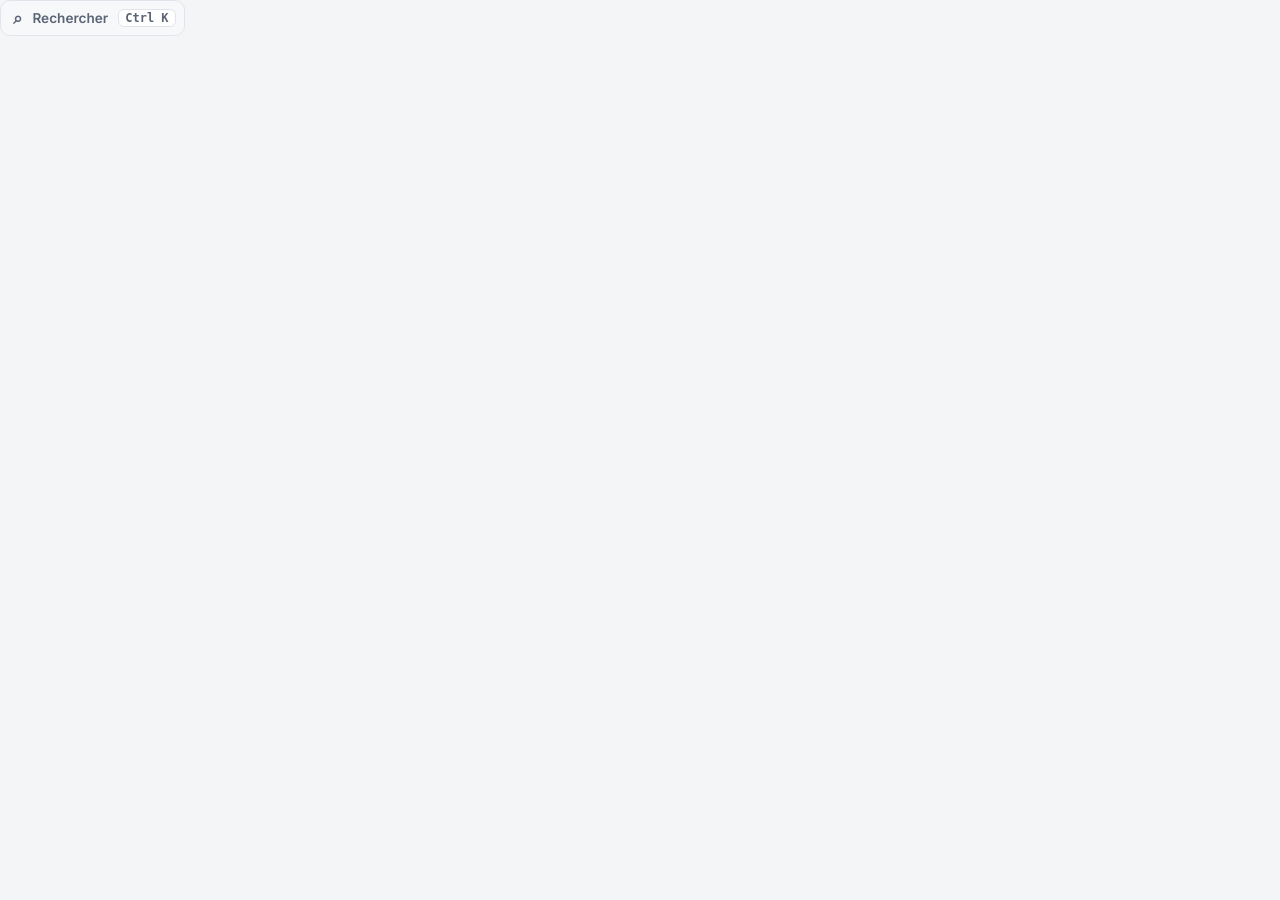
it: CommandPalette › says so when nothing matches
Type keys "{Control>}k{/Control}"
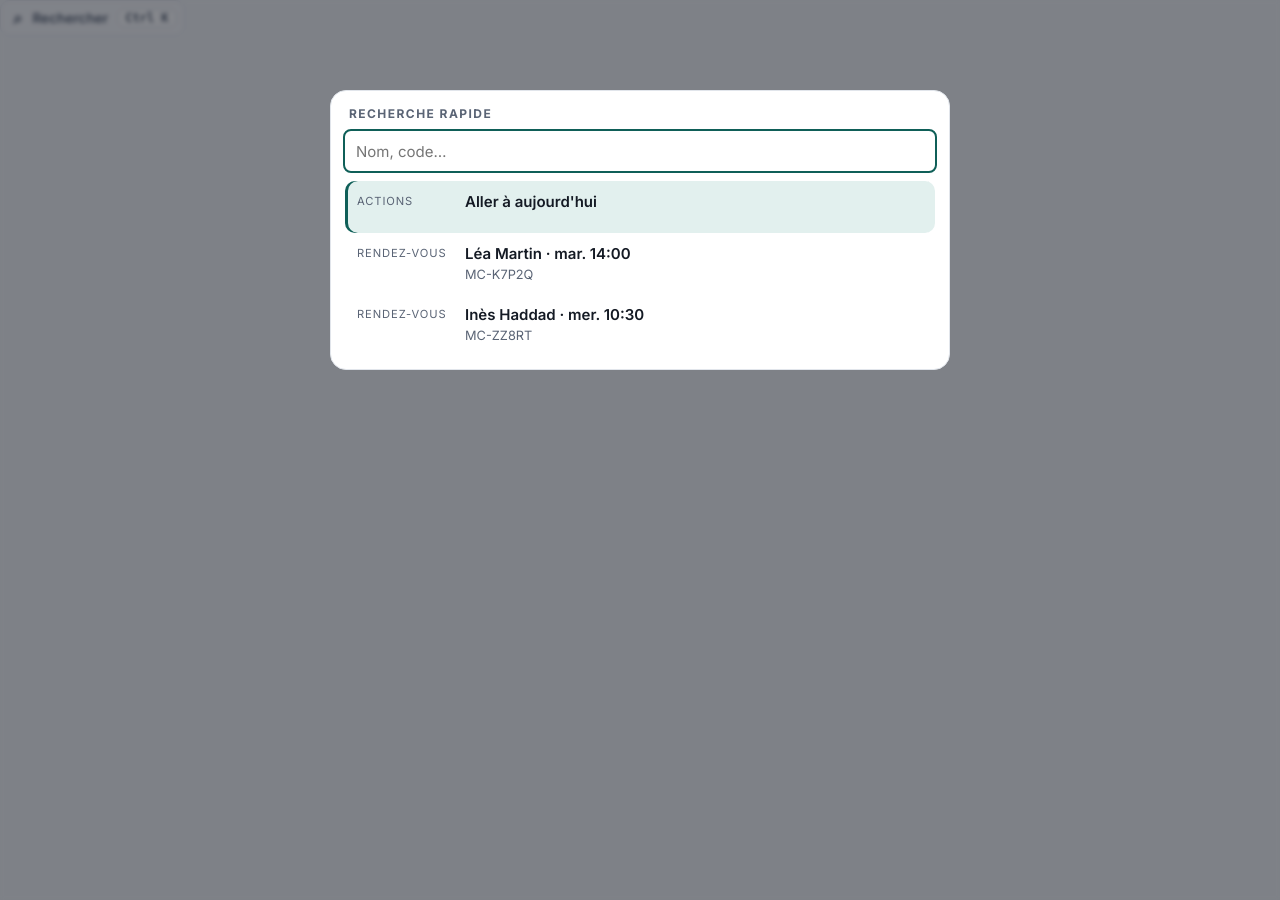
In the dropdown: (640,151) [345,131,935,171], type "qwxz"
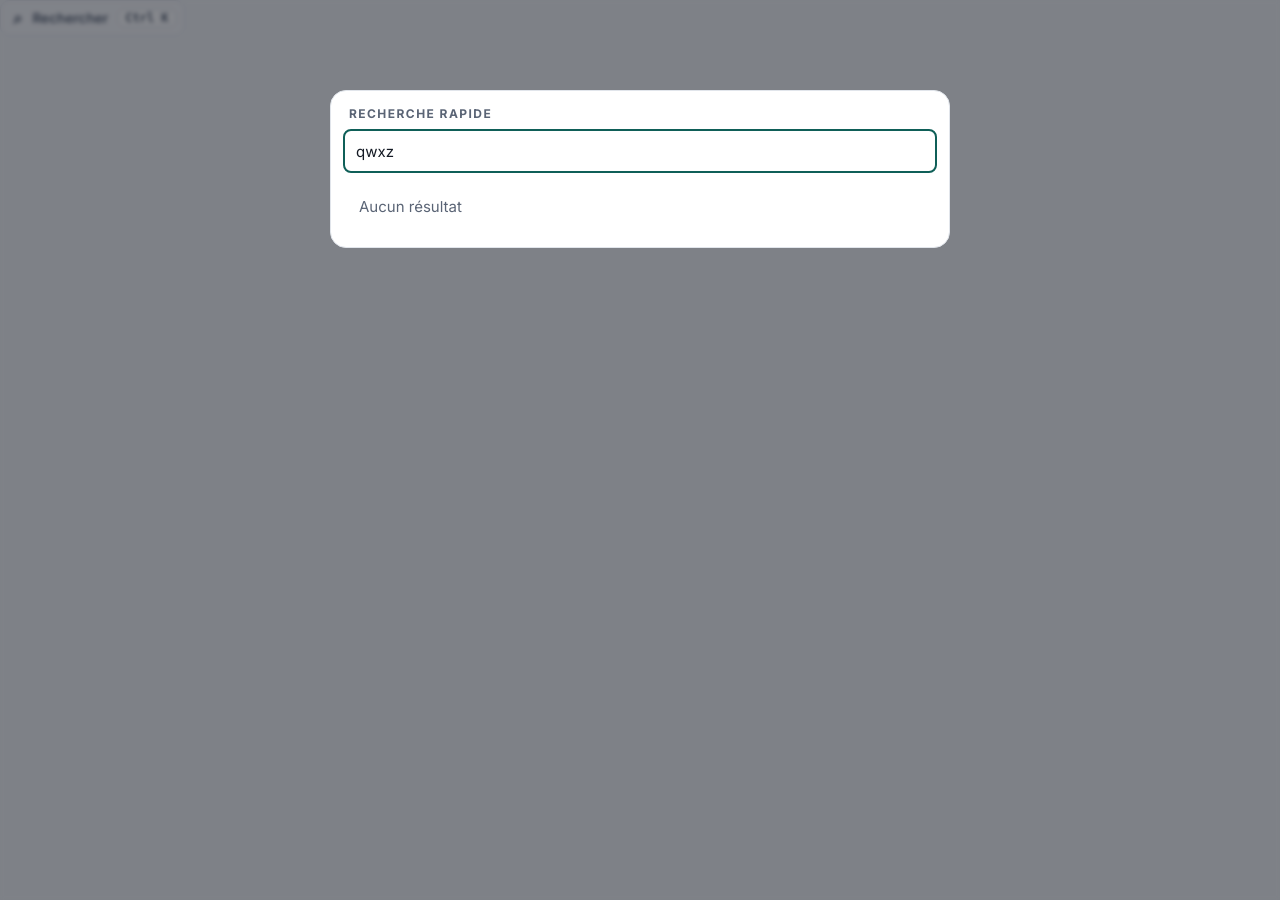
Expected: the list item "Aucun résultat" is shown, [359,197,462,216]
